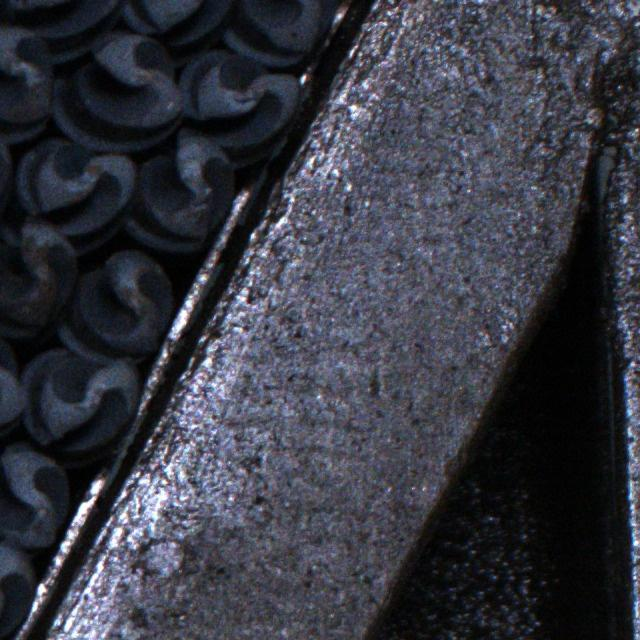tool_b: (54, 34, 187, 154), (17, 352, 137, 469), (176, 48, 298, 163), (15, 140, 136, 254), (124, 130, 236, 253), (58, 249, 174, 360), (0, 215, 76, 341), (0, 440, 67, 551), (0, 0, 123, 60), (121, 0, 237, 63), (224, 0, 334, 64), (0, 25, 53, 142), (0, 318, 26, 462), (0, 539, 36, 640)
